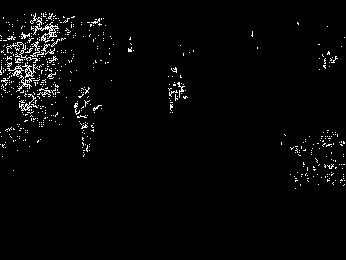person: (73, 85, 102, 158), (166, 66, 188, 115)
